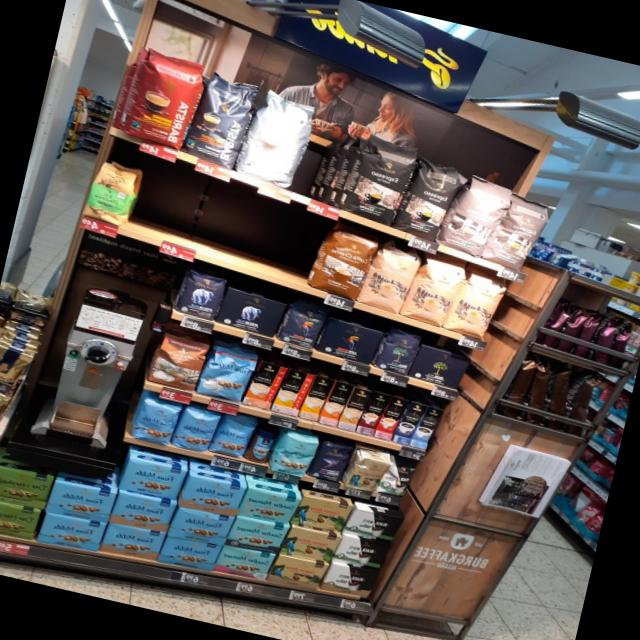AB Bohne: (171, 265, 229, 322)
AB Gemahlen: (214, 284, 287, 338)
Athiopien Bohne: (80, 157, 145, 229)
BM Bohne: (373, 322, 425, 377)
BM Gemahlen: (407, 341, 472, 390)
BW Bohne: (374, 455, 420, 497)
BW Gemahlen: (317, 561, 382, 600), (340, 506, 406, 541), (330, 533, 392, 570)
Barista CC: (233, 84, 320, 189)
Barista Espresso: (183, 65, 264, 169)
Barista Kolumbien: (119, 44, 209, 153)
C Fino Bohne: (306, 437, 356, 484)
CC Mild: (442, 267, 514, 341), (400, 254, 471, 327), (356, 239, 425, 314)
CC Vollmundig: (144, 327, 212, 394)
CC Vollmundig 36 Pads: (304, 220, 385, 303)
Colombia BB Bohne: (342, 450, 393, 493)
Colombia BB Gemahlen: (287, 492, 354, 532), (277, 524, 341, 563), (266, 552, 329, 590)
Empty Shelf: (128, 159, 325, 283)
Espresso Aromatisch: (437, 171, 518, 259), (481, 192, 559, 272)
Espresso Kraftig: (335, 131, 421, 228), (391, 154, 470, 242)
FM 36 Pads: (194, 339, 260, 403)
FM Bohne: (127, 394, 183, 447), (170, 406, 223, 454), (208, 414, 260, 460)
FM Gemahlen: (114, 455, 188, 501), (45, 478, 117, 523), (178, 472, 246, 517), (108, 488, 177, 532), (36, 511, 106, 552), (165, 505, 235, 546), (99, 522, 167, 561), (155, 535, 221, 571)
FM Instant: (242, 424, 280, 467)
Herzhatfe Mundig: (0, 464, 53, 510), (0, 501, 42, 540)
LG Bohne: (277, 297, 331, 352)
LG Gemahlen: (312, 314, 387, 367)
SM Bohne: (268, 429, 321, 478)
SM Gemahlen: (234, 484, 302, 526), (223, 515, 289, 553), (211, 544, 276, 580)
Simo CCMild: (269, 366, 314, 416)
Simo CCMild bigpack: (297, 374, 334, 421)
Simo CCVollmundig: (241, 359, 287, 410)
Simo CCVollmundig bigpack: (318, 380, 354, 426)
Simo Decaff: (336, 386, 372, 431)
Simo Es Brazil: (373, 394, 408, 440)
Simo Es Caramel: (355, 391, 390, 436)
Simo Es Kraft: (391, 400, 427, 445)
Simo Es Vanilla: (409, 405, 444, 449)
